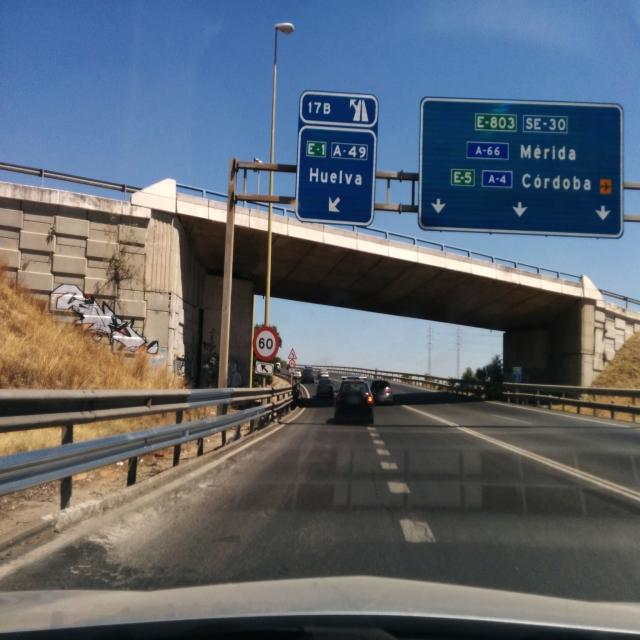car: (334, 378, 374, 422), (369, 379, 394, 406), (315, 378, 335, 398), (300, 368, 316, 384)
